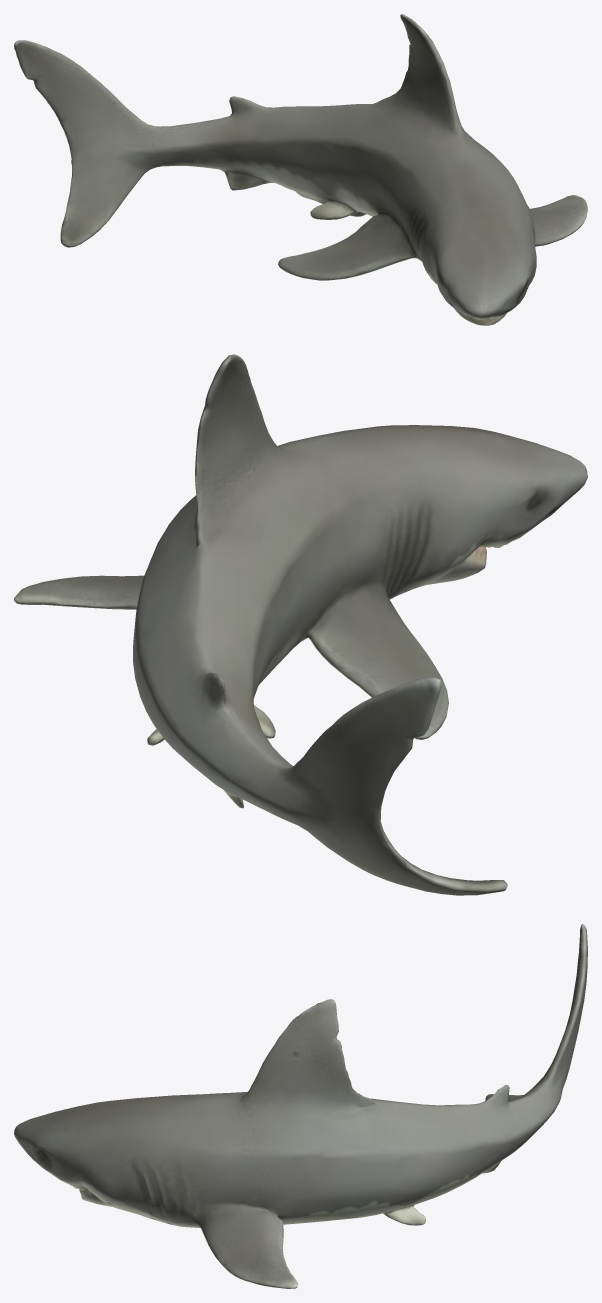
File: google-great-white-shark.glb
3 renders of one model, top to bottom at view 1: azimuth 30°, elevation 25°; view 2: azimuth 150°, elevation 25°; view 3: azimuth 270°, elevation 25°, orthographic. The views are drawn at different scales.
Parts seen in each view (by area): view 1: Node; view 2: Node; view 3: Node.
Boxes of the visible parts, x1,y1,x2,y2 form: Node: (14,14,587,325); Node: (14,354,587,895); Node: (14,924,587,1288).
Bounding box in the file's own units: 0.1437 × 0.0748 × 0.1671.
Materials: 1 (1 with a texture image).
